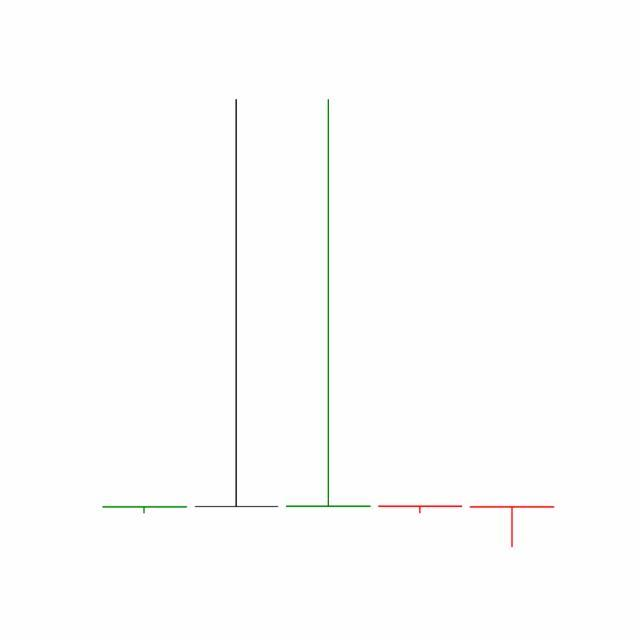Dragonfly Doji: (466, 506, 559, 549)
